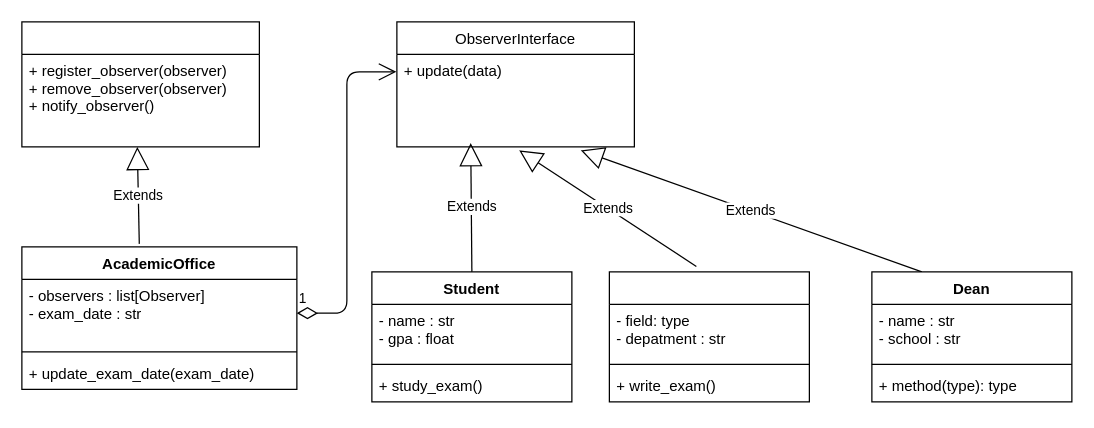
Some shapes in this 1094 by 428 pixel diagram are drawn without their labels. Each missing label, with the box of its shape:
Professor: (608, 271, 809, 402)
SubjectInterface: (21, 21, 259, 147)
